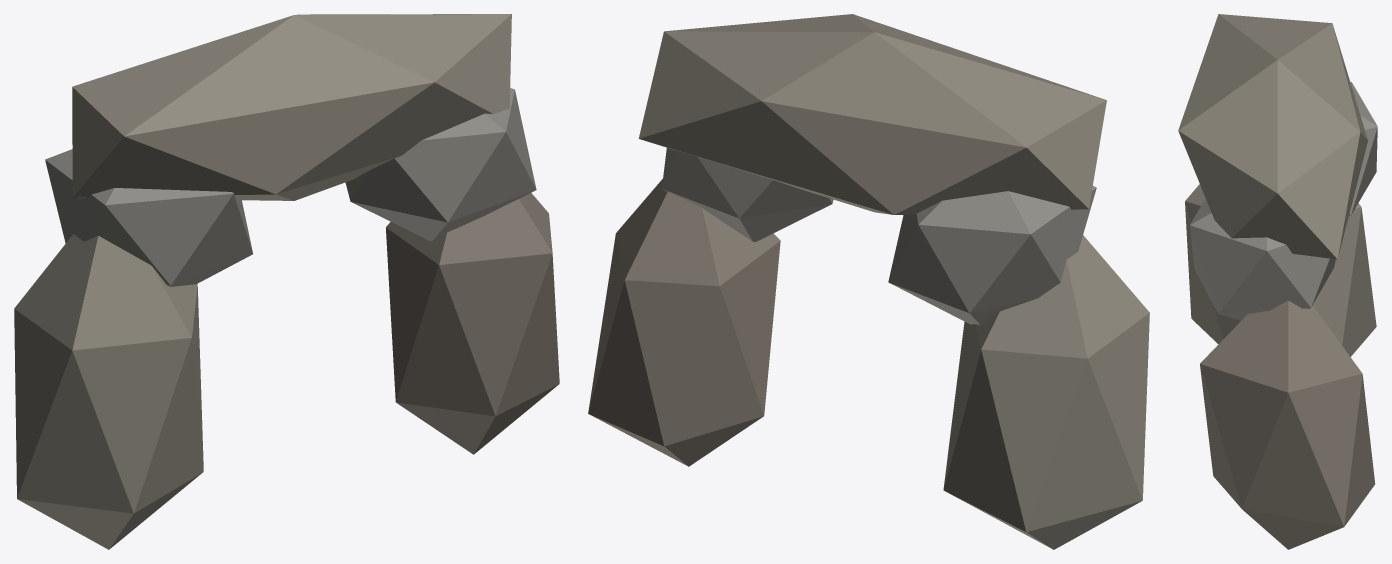
The model's file is Rock_Arch.glb.
3 renders of one model, left to right at view 1: azimuth 30°, elevation 25°; view 2: azimuth 150°, elevation 25°; view 3: azimuth 270°, elevation 25°, orthographic. The views are drawn at different scales.
Visible parts, largest first — view 1: Rock_Arch; view 2: Rock_Arch; view 3: Rock_Arch.
Boxes of the visible parts, x1=… form: Rock_Arch: x1=14, y1=14, x2=559, y2=549; Rock_Arch: x1=588, y1=14, x2=1149, y2=549; Rock_Arch: x1=1178, y1=14, x2=1377, y2=549.
Size of the model in its own units: 2.47 by 2.14 by 0.9379.
1 material, 1 textured.
